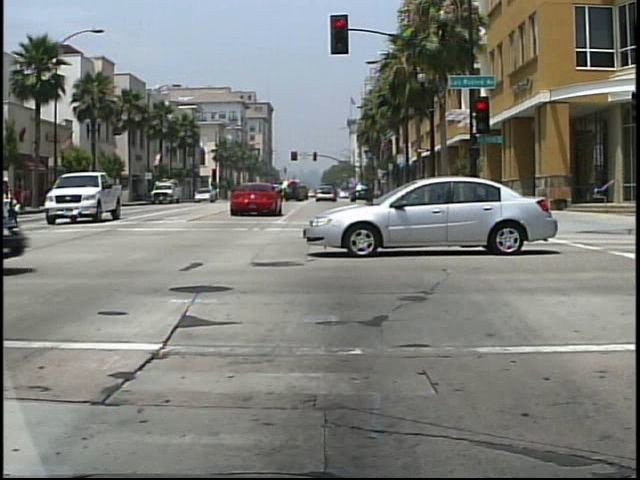person: (0, 173, 25, 230)
